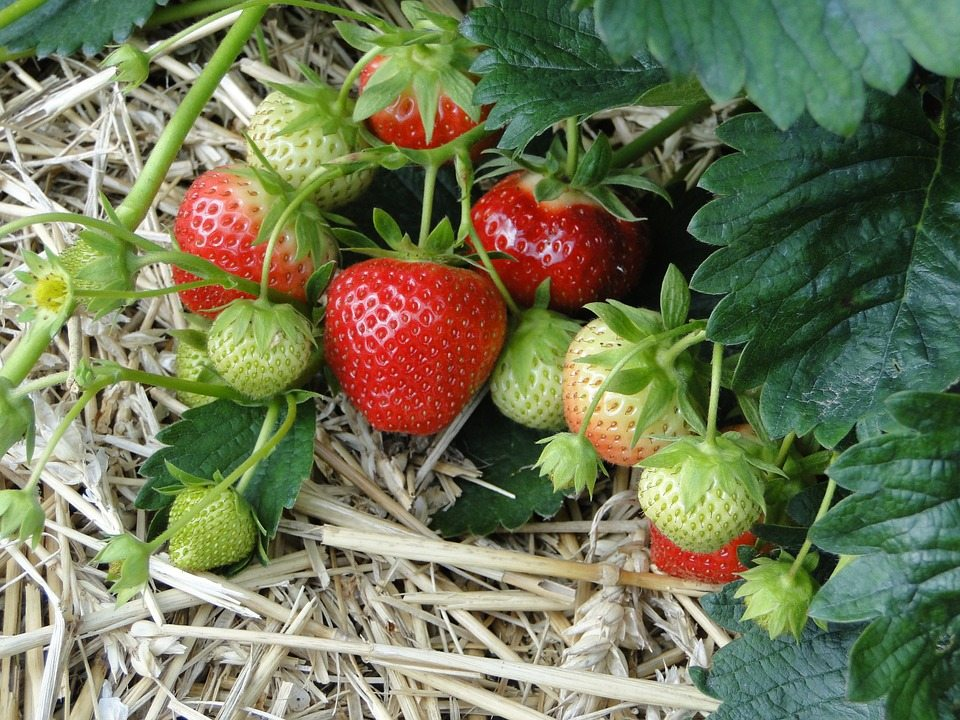ripe_strawberry: (324, 255, 508, 437), (464, 167, 659, 323), (168, 162, 341, 323), (358, 42, 501, 161), (645, 517, 760, 585)
unripe_strawberry: (560, 304, 699, 469), (244, 85, 380, 213), (637, 442, 770, 556), (488, 312, 580, 435), (207, 300, 314, 402), (166, 483, 259, 574), (744, 558, 816, 638), (58, 226, 134, 291), (175, 317, 222, 410)
